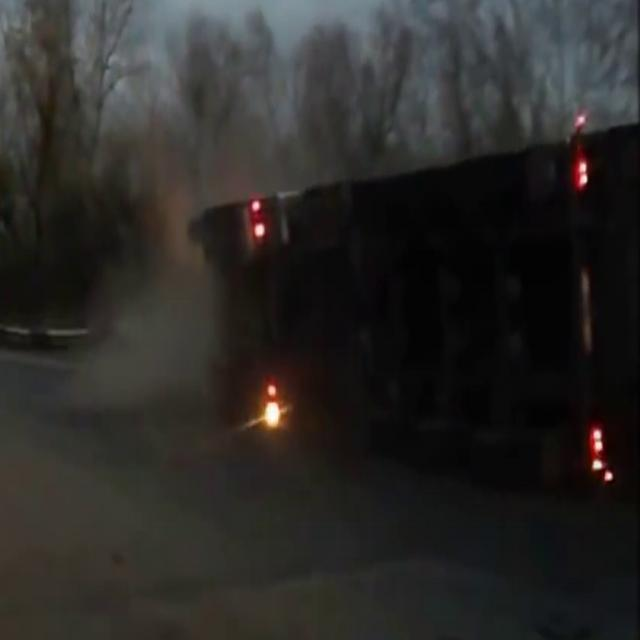accident: (171, 135, 640, 512)
